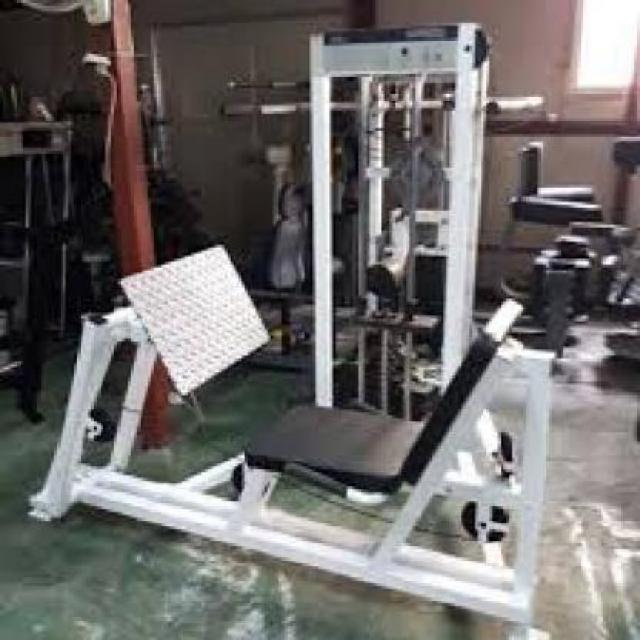leg press: (24, 21, 570, 624)
